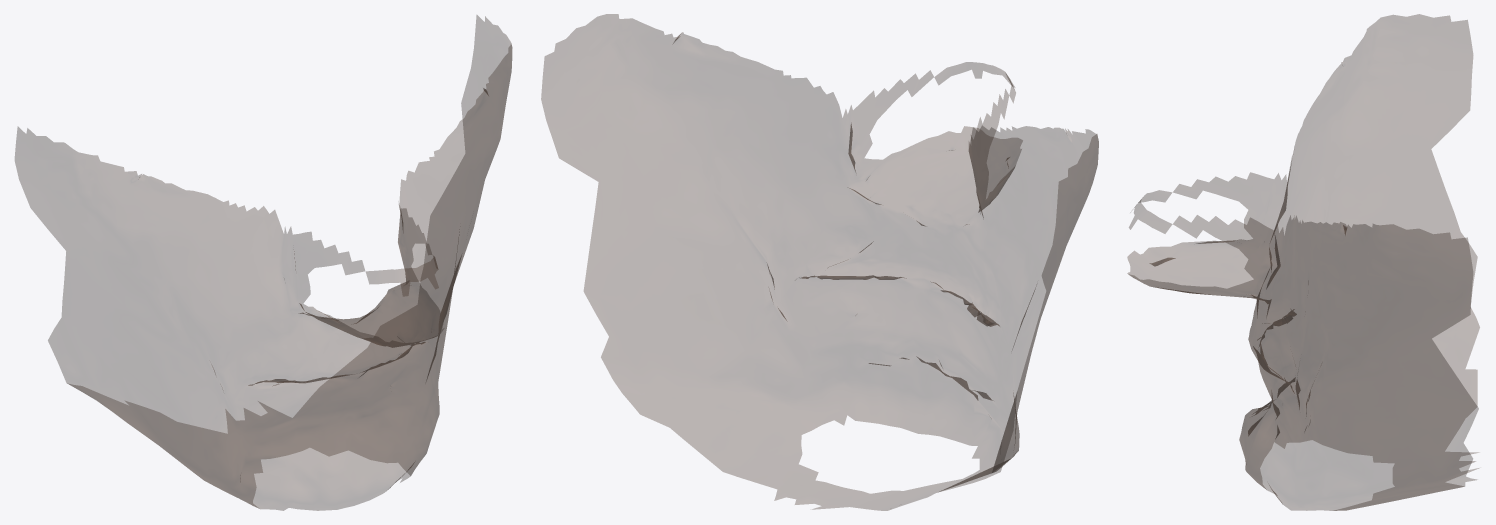
File: kopf.bart.stoppeln.glb
3 views of the same model, side by side, from view 1: azimuth 30°, elevation 25°; view 2: azimuth 150°, elevation 25°; view 3: azimuth 270°, elevation 25° (orthographic). The views are drawn at different scales.
Parts seen in each view (by area): view 1: bart; view 2: bart; view 3: bart.
Part boxes in pixels (box(x1,y1,x2,y2)): bart: box(15, 15, 512, 510); bart: box(541, 14, 1098, 510); bart: box(1127, 14, 1479, 510).
Size of the model in its own units: 0.1605 by 0.1232 by 0.1104.
